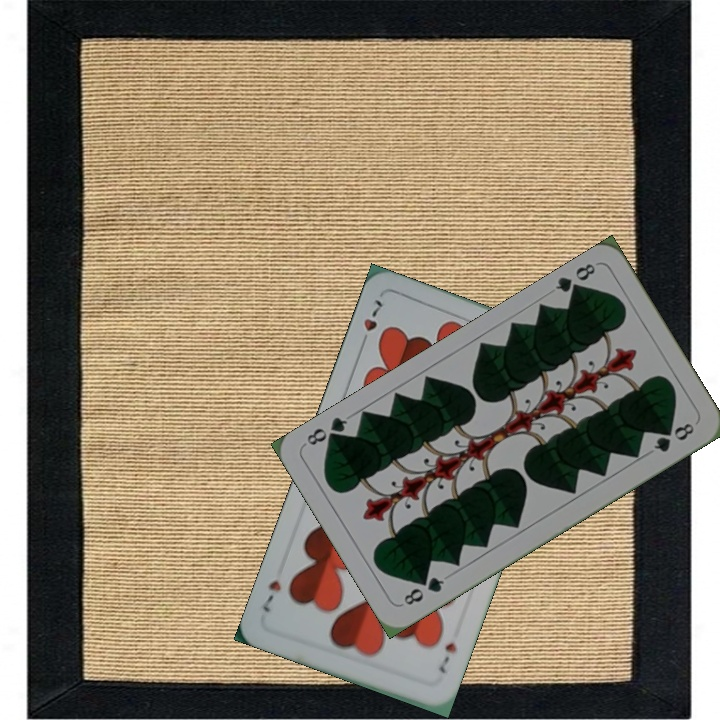G8: (551, 259, 599, 300), (399, 573, 447, 608)
H7: (356, 295, 386, 350), (434, 638, 460, 676)
